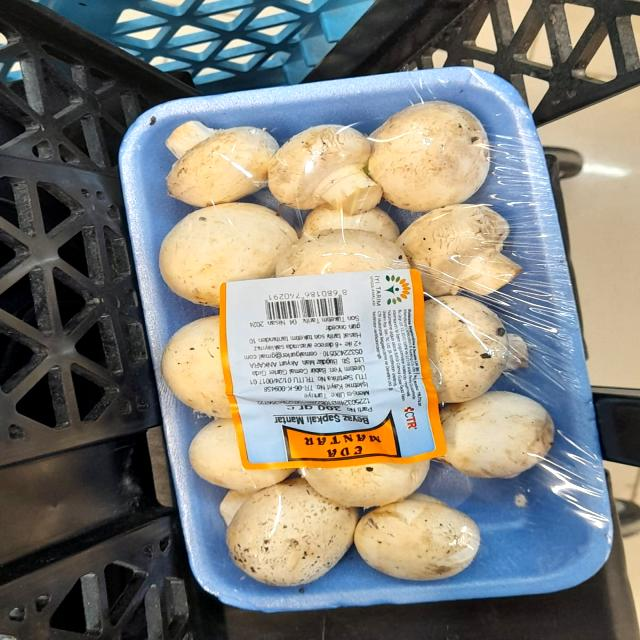mushroom: (357, 85, 511, 218), (205, 481, 360, 600), (396, 202, 537, 302), (359, 486, 488, 590), (267, 117, 397, 220), (151, 110, 277, 203)
